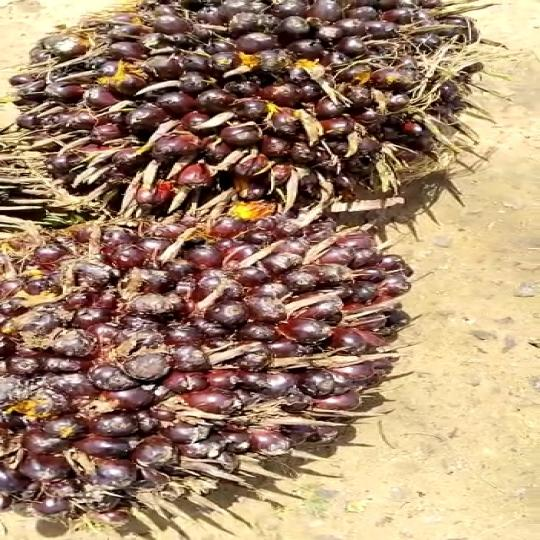kurang masak: (0, 184, 442, 540), (7, 0, 518, 240)
